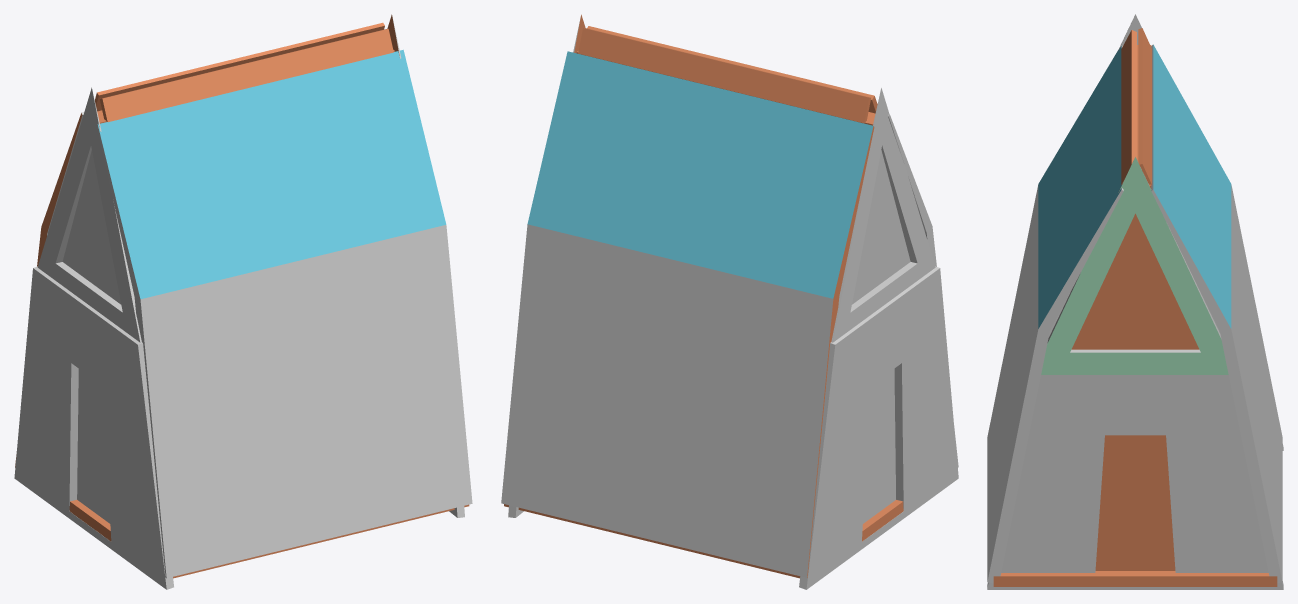
Rendered from PlaceHolderSantaHouse.fbx.
3 renders of one model, left to right at view 1: azimuth 30°, elevation 25°; view 2: azimuth 150°, elevation 25°; view 3: azimuth 270°, elevation 25°, orthographic. The views are drawn at different scales.
Visible parts, largest first — view 1: Cube.002, Cube.009, Cube.008, Cube.011, Cube.010, Cube, Cube.001; view 2: Cube.001, Cube.009, Cube.008, Cube.010, Cube, Cube.011, Cube.002; view 3: Cube.006, Cube.002, Cube.001, Cube.004, Cube, Cube.011, Cube.010.
Part boxes in pixels (x1,y1,x2,y2): Cube.002: (96,49,472,578); Cube.009: (14,266,173,589); Cube.008: (37,87,141,342); Cube.011: (100,28,393,122); Cube.010: (95,22,384,111); Cube: (69,500,469,578); Cube.001: (15,112,84,467); Cube.001: (501,51,874,577); Cube.009: (799,266,958,589); Cube.008: (831,88,935,342); Cube.010: (578,28,870,123); Cube: (504,500,903,578); Cube.011: (587,26,877,113); Cube.002: (888,114,958,467); Cube.006: (987,375,1283,589); Cube.002: (987,45,1123,583); Cube.001: (1151,44,1282,582); Cube.004: (1041,157,1228,374); Cube: (993,571,1277,586); Cube.011: (1121,30,1136,184); Cube.010: (1138,28,1151,185).
Bounding box in the file's own units: 1177 × 999 × 1616.
